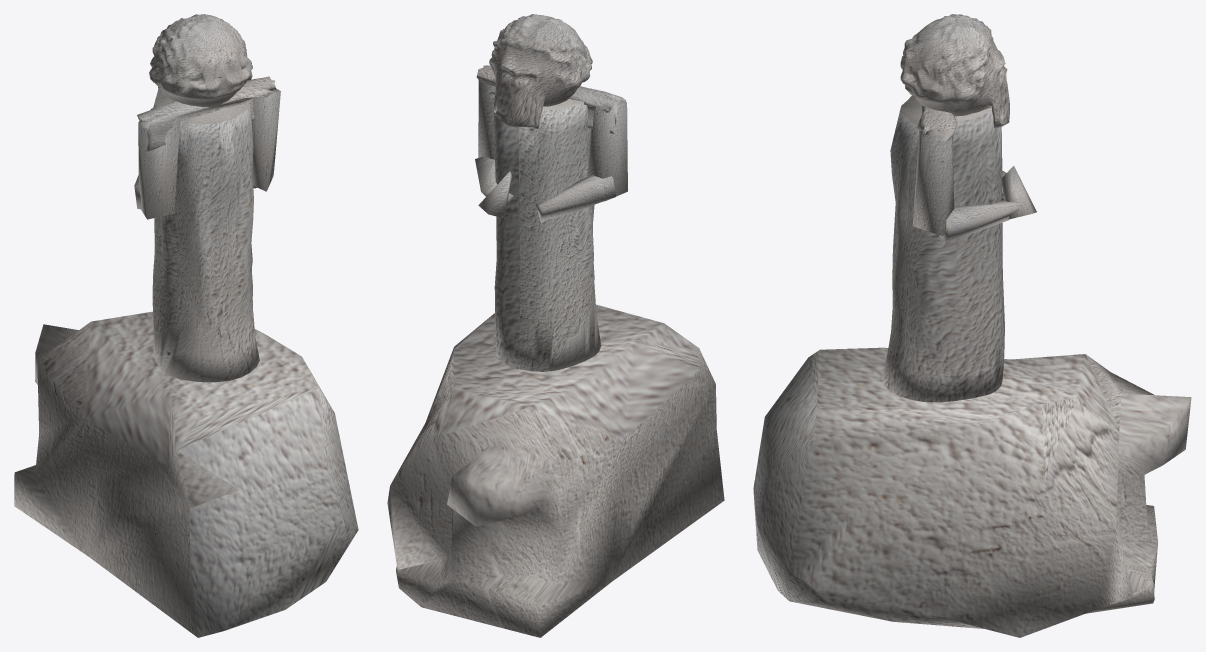
File: lahit4.obj
3 renders of one model, left to right at view 1: azimuth 30°, elevation 25°; view 2: azimuth 150°, elevation 25°; view 3: azimuth 270°, elevation 25°, orthographic. The views are drawn at different scales.
Parts seen in each view (by area): view 1: Cube, Cylinder, Sphere, Cylinder.002, Cylinder.006, Cylinder.001; view 2: Cube, Cylinder, Sphere, Cylinder.002, Cylinder.003, Cylinder.006, Cylinder.001, Cylinder.005, Cylinder.004; view 3: Cube, Cylinder, Sphere, Cylinder.001, Cylinder.004, Cylinder.005, Cylinder.006.
Part boxes in pixels (box(x1,y1,x2,y2)): Cube: box(14, 311, 358, 637); Cylinder: box(152, 87, 259, 382); Sphere: box(149, 14, 252, 107); Cylinder.002: box(138, 115, 180, 219); Cylinder.006: box(137, 76, 276, 151); Cylinder.001: box(252, 88, 280, 191); Cube: box(387, 304, 724, 637); Cylinder: box(494, 99, 601, 371); Sphere: box(489, 14, 592, 128); Cylinder.002: box(587, 100, 627, 200); Cylinder.003: box(536, 175, 616, 222); Cylinder.006: box(476, 65, 626, 134); Cylinder.001: box(478, 80, 495, 159); Cylinder.005: box(478, 171, 512, 218); Cylinder.004: box(475, 156, 513, 203); Cube: box(753, 347, 1191, 637); Cylinder: box(882, 95, 1004, 402); Sphere: box(900, 14, 1009, 128); Cylinder.001: box(912, 129, 954, 236); Cylinder.004: box(939, 198, 1021, 242); Cylinder.005: box(1001, 166, 1036, 219); Cylinder.006: box(916, 105, 956, 162).
Bounding box in the file's own units: 3.65 × 9.58 × 6.67.
